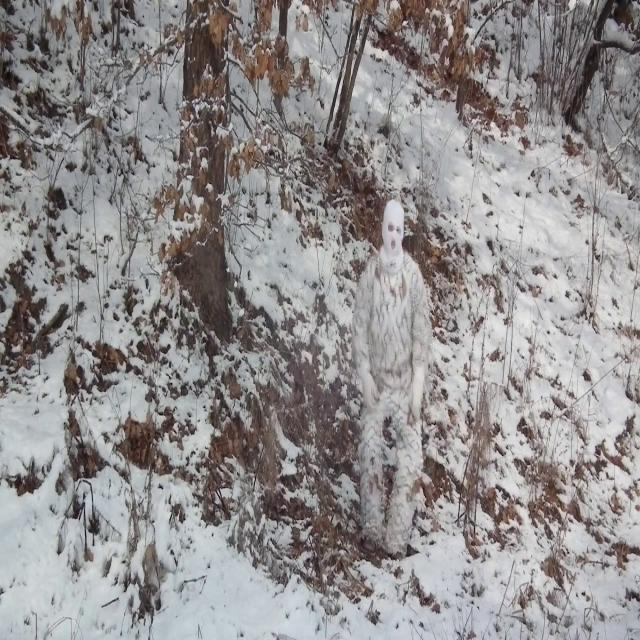Camouflage: (350, 201, 433, 560)
